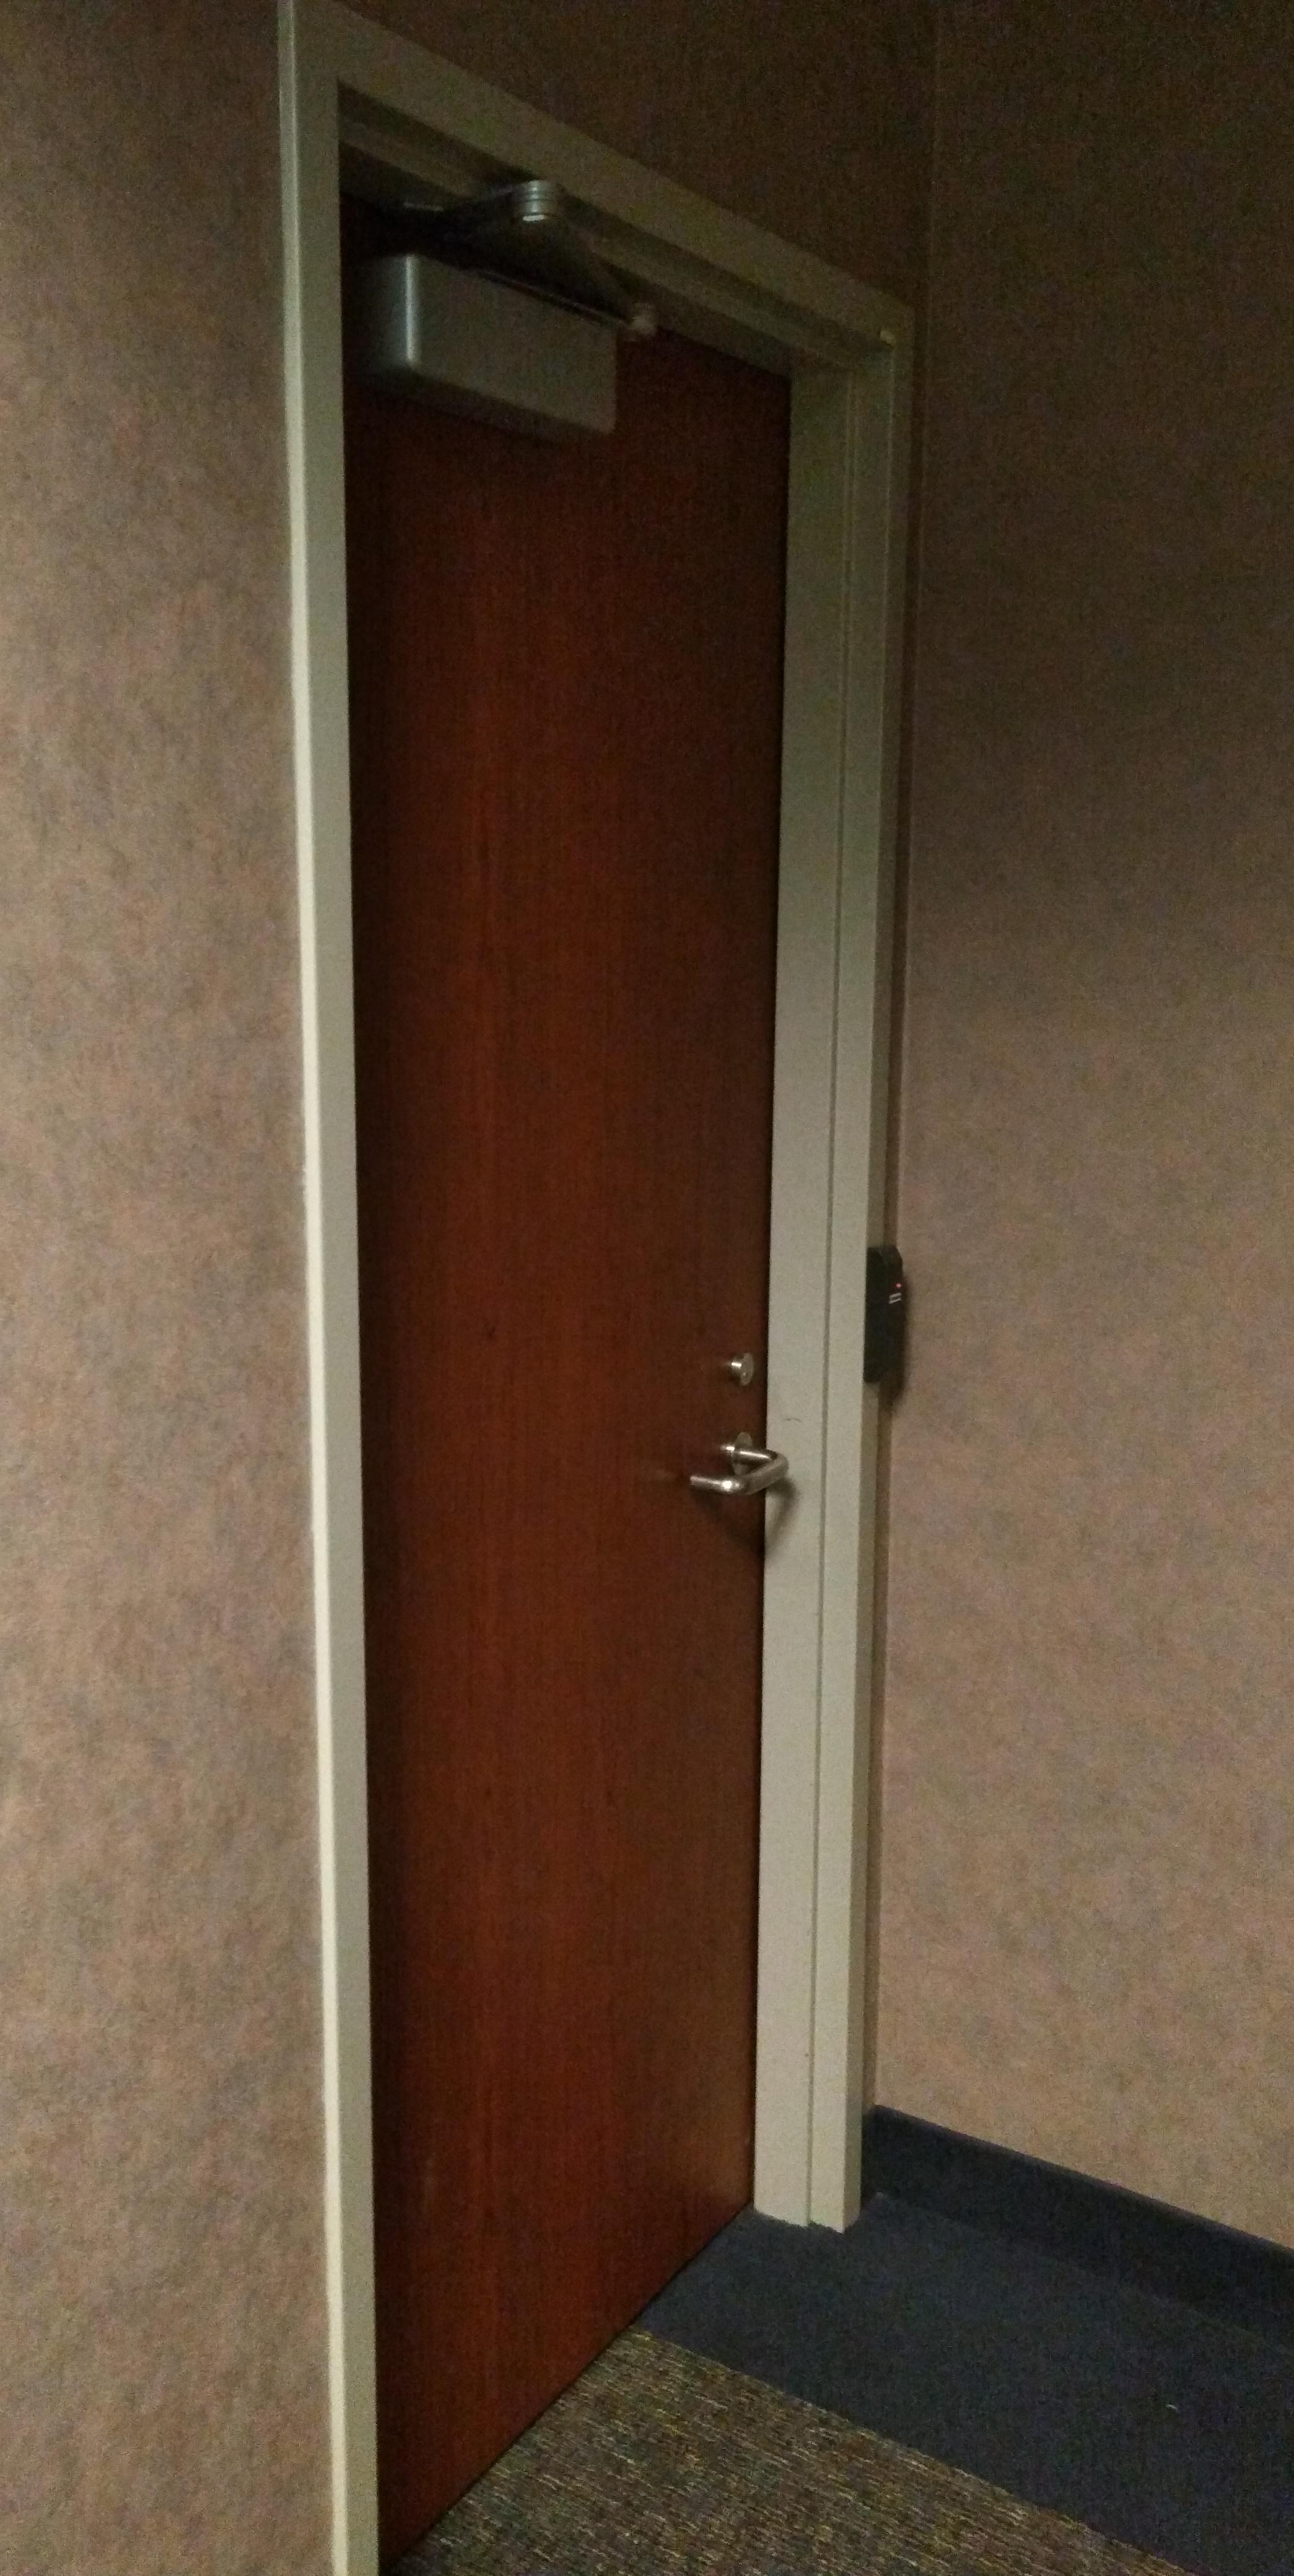door: (282, 0, 919, 2576)
